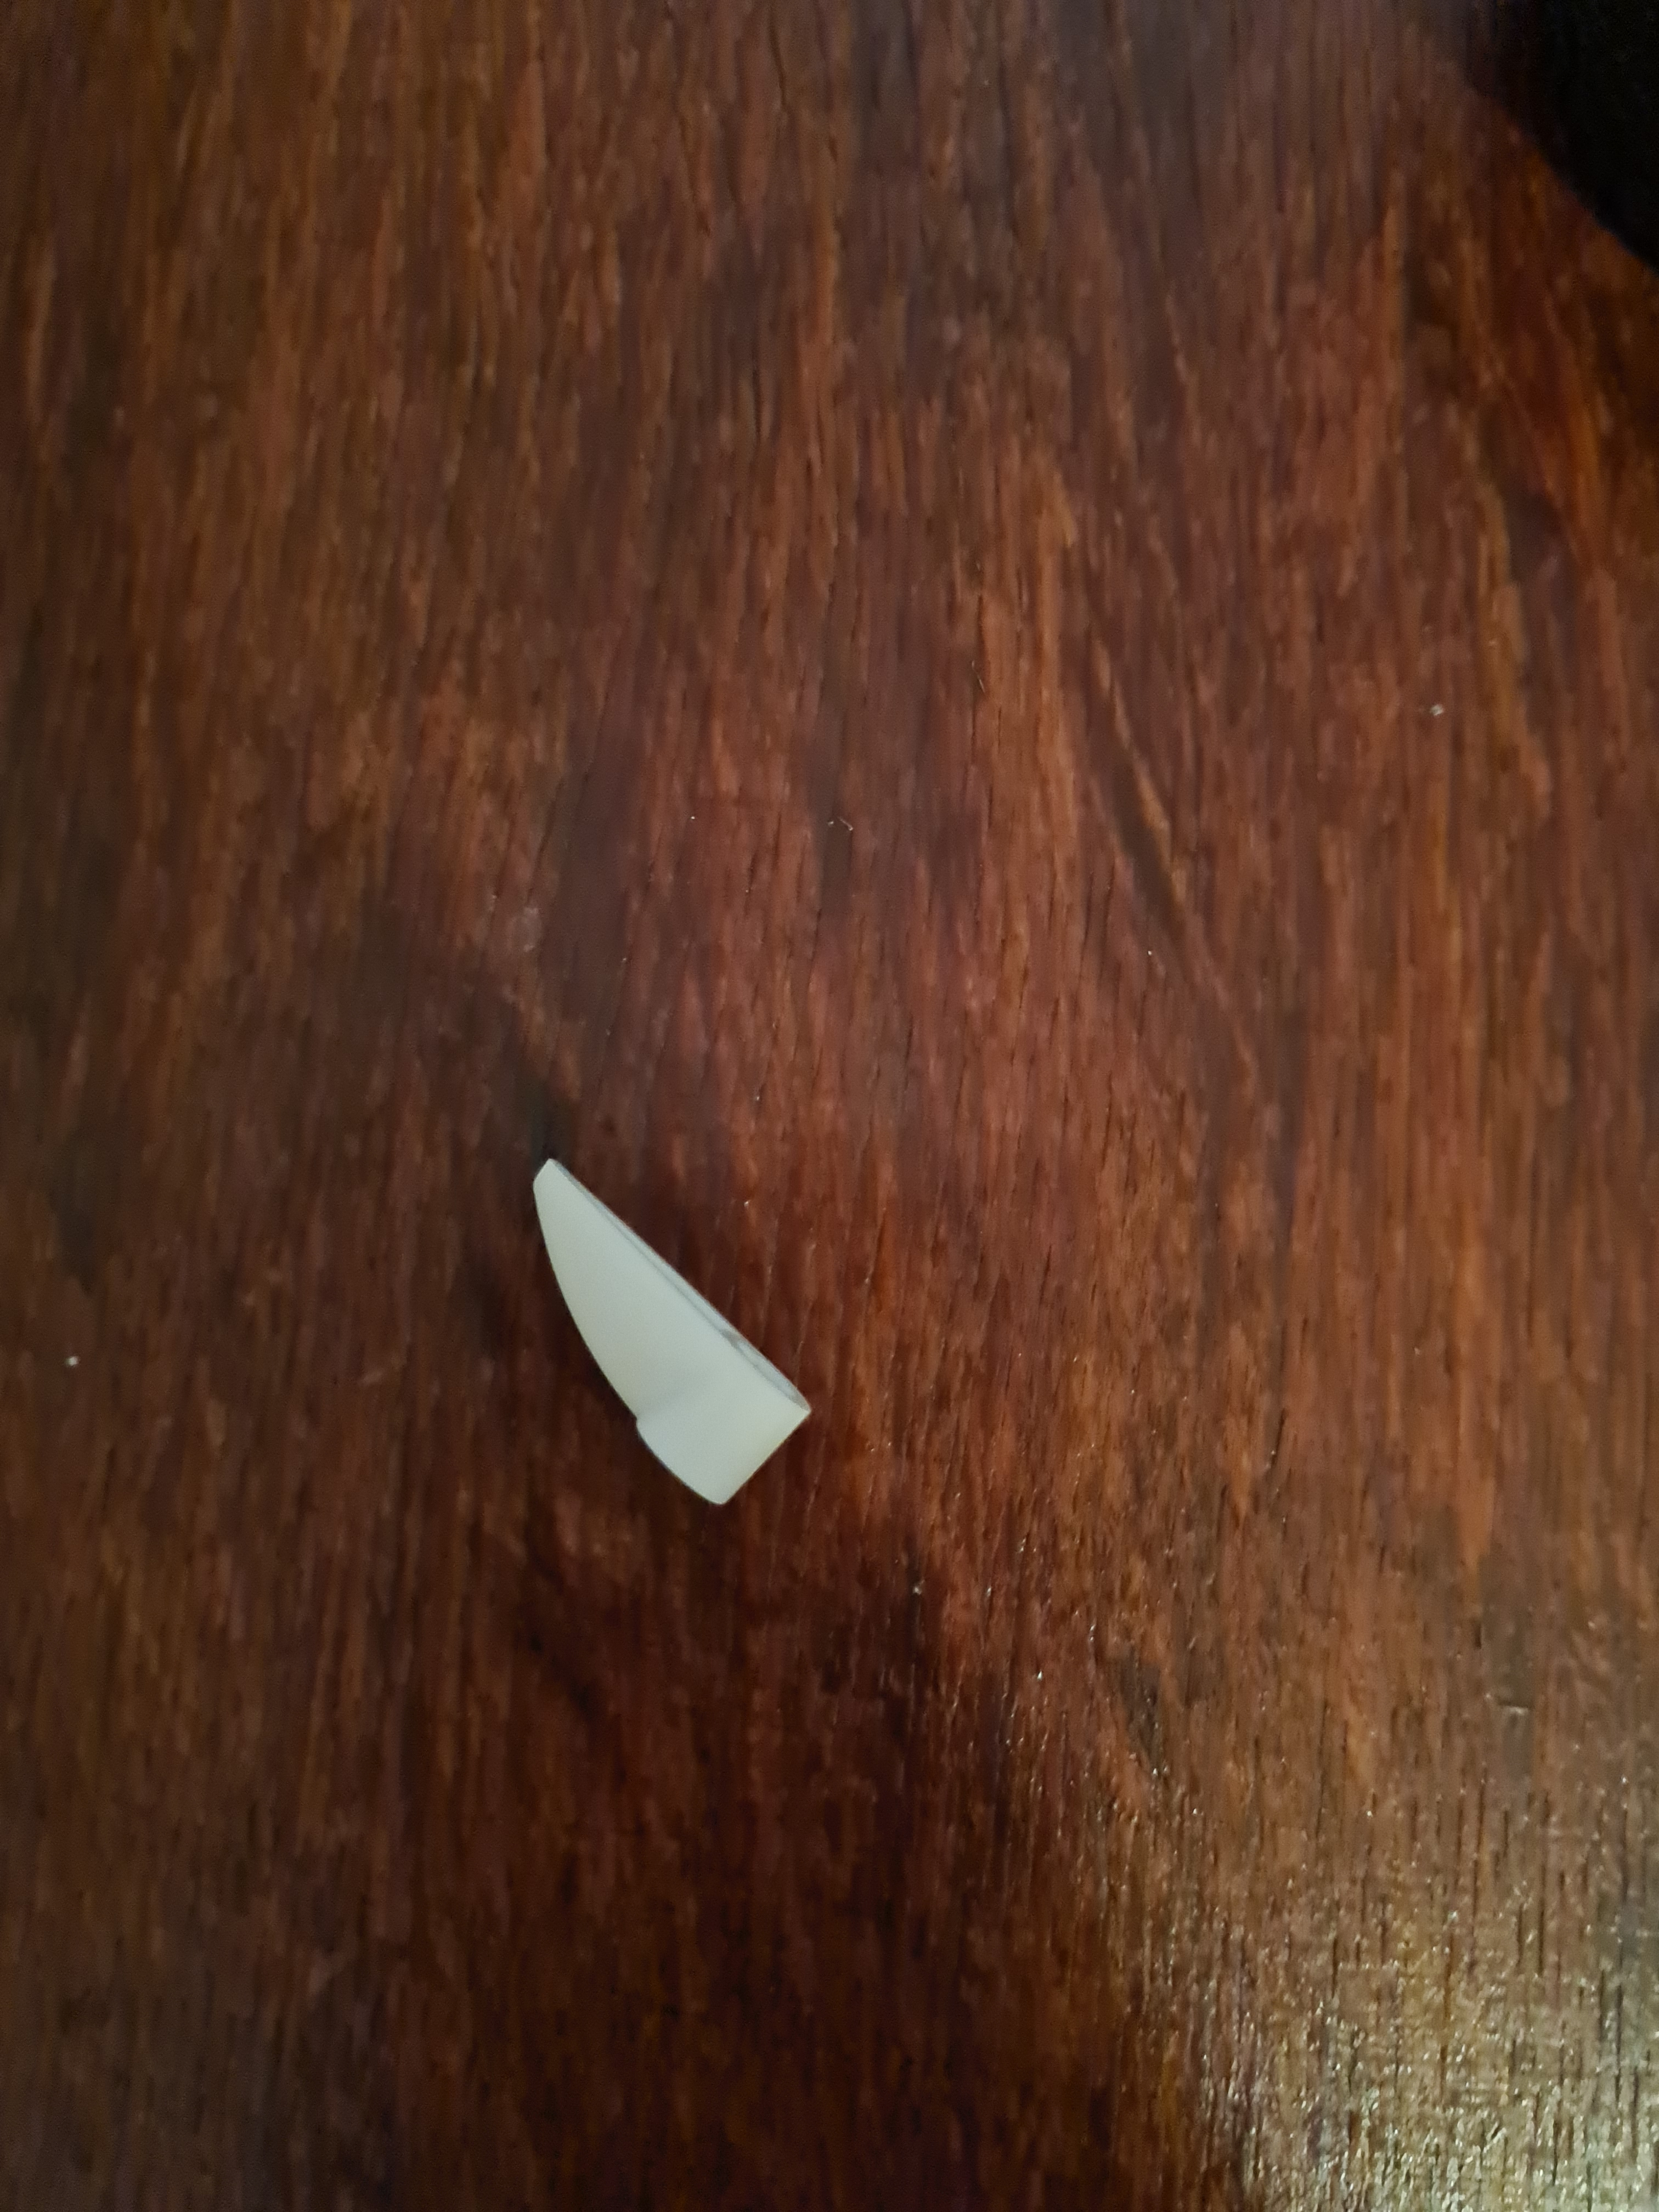Kappe: (504, 1127, 831, 1543)
